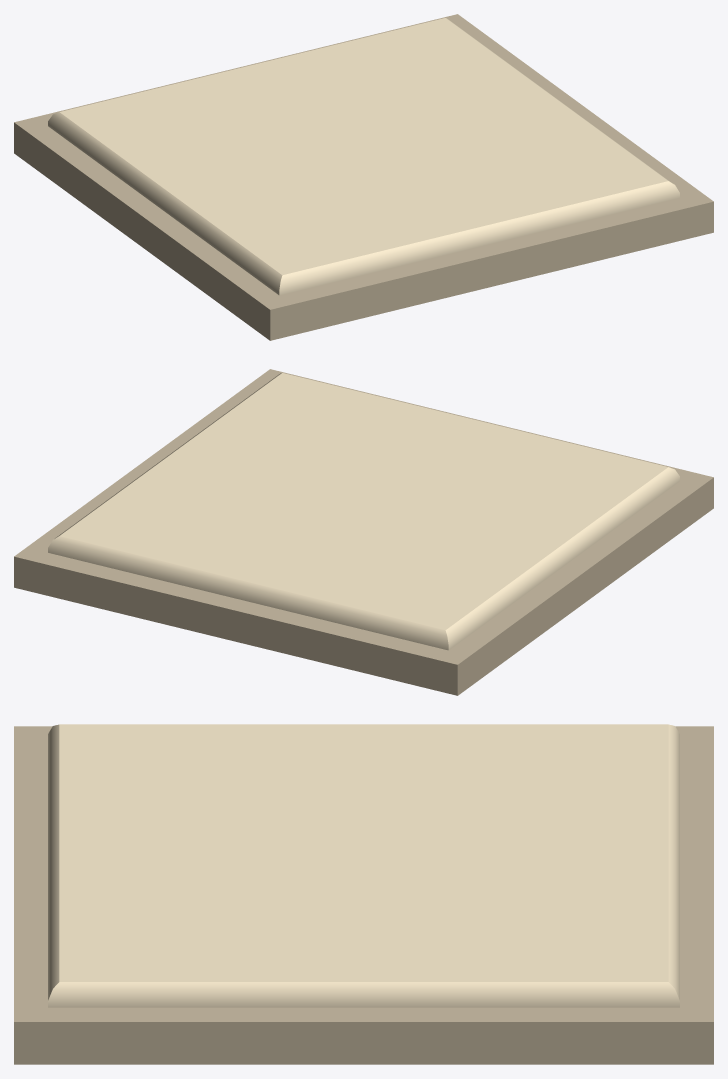
The model's file is Tile2.fbx.
3 views of the same model, one above another, from view 1: azimuth 30°, elevation 25°; view 2: azimuth 150°, elevation 25°; view 3: azimuth 270°, elevation 25° (orthographic). The views are drawn at different scales.
Visible parts, largest first — view 1: Cube.116; view 2: Cube.116; view 3: Cube.116.
Boxes of the visible parts, bbox=[...] form: Cube.116: bbox=[14, 14, 713, 340]; Cube.116: bbox=[14, 369, 713, 695]; Cube.116: bbox=[14, 724, 713, 1064].
Bounding box in the file's own units: 100 × 100 × 10.
